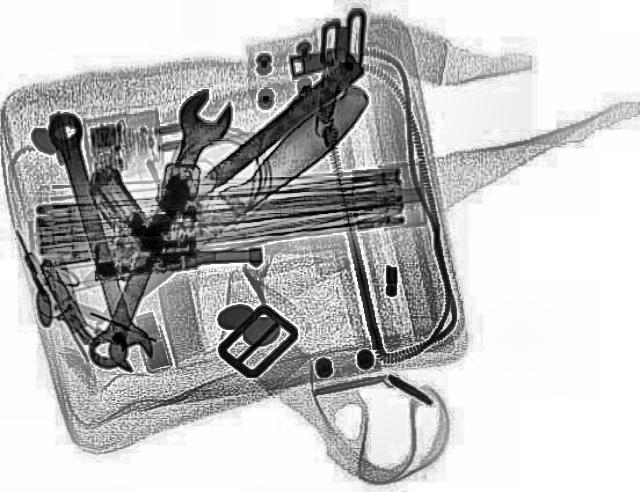Gun: (80, 158, 262, 278)
Knife: (74, 55, 368, 291), (100, 78, 390, 300)
Wrench: (75, 86, 239, 372), (35, 110, 159, 374)
